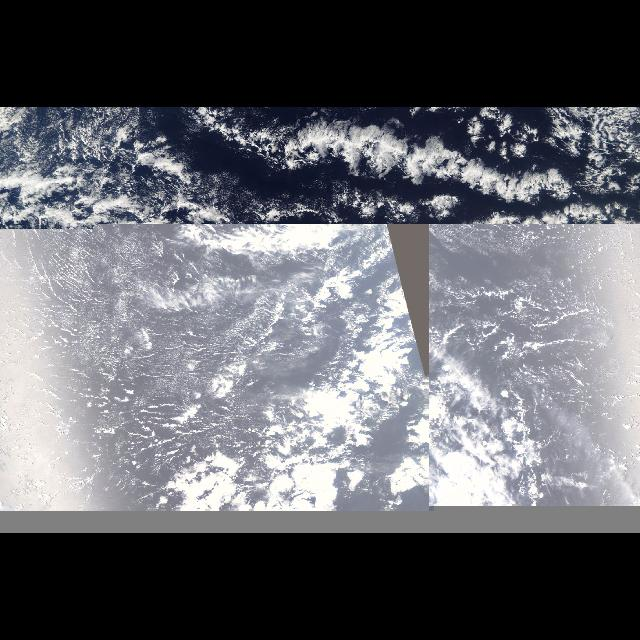Fish: (234, 110, 592, 220)
